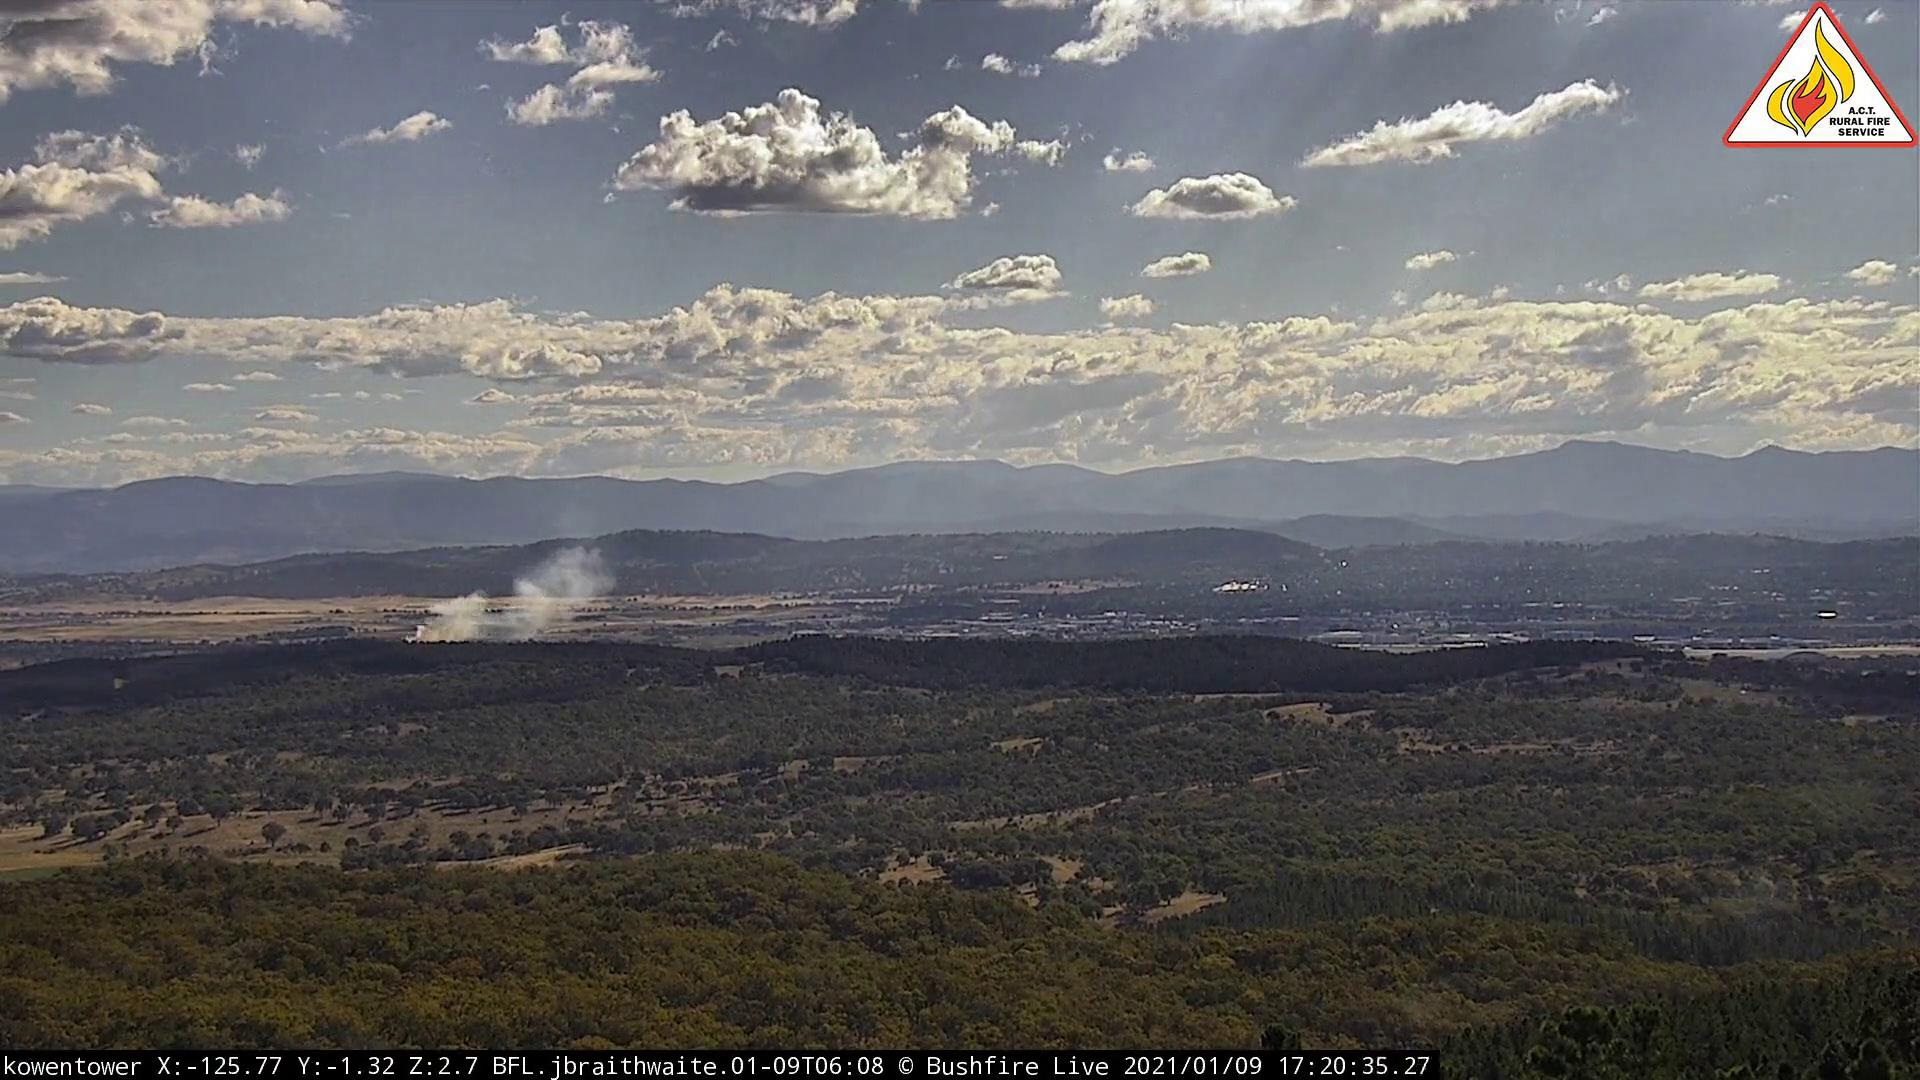Smoke: (393, 526, 626, 655)
